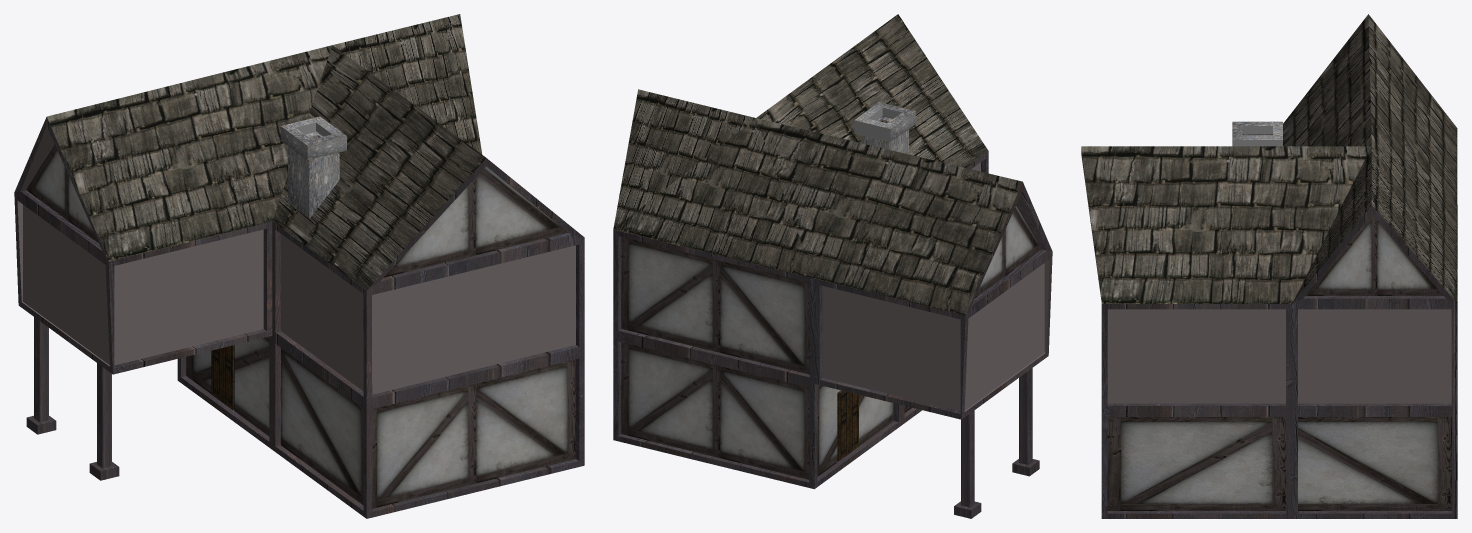
File: Obj_House_02.FBX
3 views of the same model, side by side, from view 1: azimuth 30°, elevation 25°; view 2: azimuth 150°, elevation 25°; view 3: azimuth 270°, elevation 25° (orthographic). The views are drawn at different scales.
Visible parts, largest first — view 1: Box001; view 2: Box001; view 3: Box001.
Part boxes in pixels (x1=…): Box001: x1=14, y1=14, x2=584, y2=518; Box001: x1=613, y1=14, x2=1052, y2=518; Box001: x1=1081, y1=14, x2=1457, y2=518.
Bounding box in the file's own units: 38.08 × 30 × 31.73.
